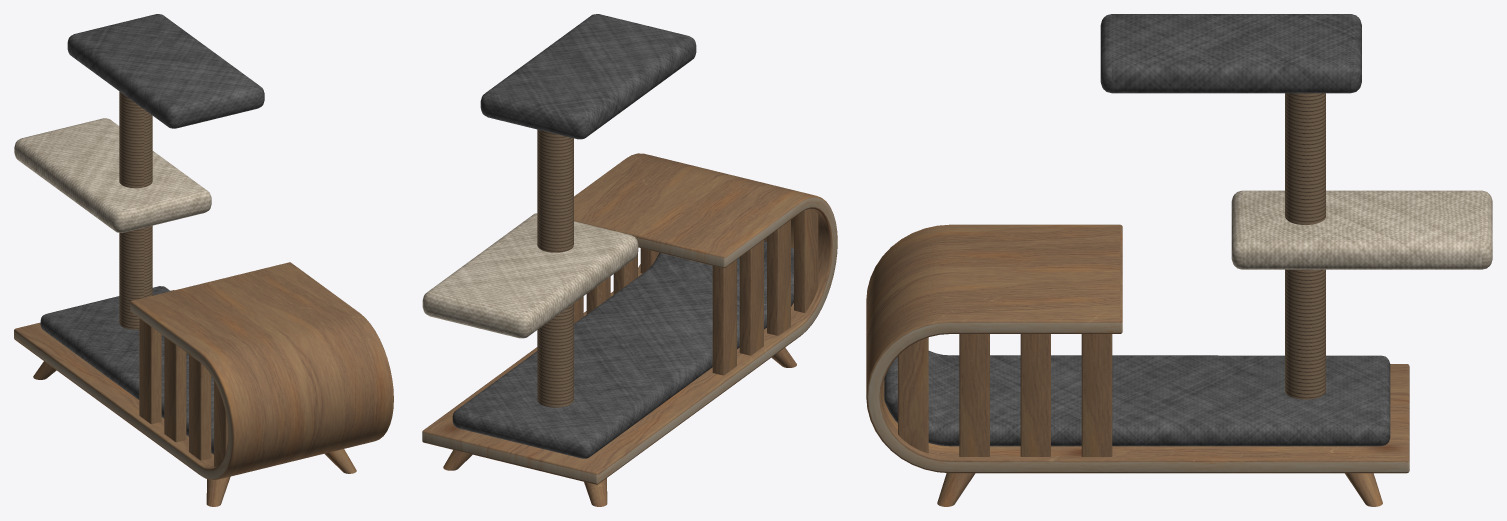
File: cat_bed.glb
3 views of the same model, side by side, from view 1: azimuth 30°, elevation 25°; view 2: azimuth 150°, elevation 25°; view 3: azimuth 270°, elevation 25° (orthographic). The views are drawn at different scales.
Visible parts, largest first — view 1: Cube.001, Cube.005, Cube.004, Cube.002, Cube.003, Cylinder, Cylinder.001; view 2: Cube.001, Cube.003, Cube.005, Cube.004, Cube.002, Cylinder, Cylinder.001; view 3: Cube.001, Cube.003, Cube.005, Cube.004, Cube.002, Cylinder, Cylinder.001.
Part boxes in pixels (<box>): Cube.001: <box>14,262,393,479</box>; Cube.005: <box>67,14,264,128</box>; Cube.004: <box>14,118,211,232</box>; Cube.002: <box>139,318,227,467</box>; Cube.003: <box>40,286,213,454</box>; Cylinder: <box>119,91,152,329</box>; Cylinder.001: <box>33,361,356,506</box>; Cube.001: <box>422,153,837,484</box>; Cube.003: <box>452,241,793,458</box>; Cube.005: <box>480,14,696,139</box>; Cube.004: <box>422,213,638,338</box>; Cube.002: <box>574,209,818,375</box>; Cylinder: <box>537,129,573,407</box>; Cylinder.001: <box>443,347,796,506</box>; Cube.001: <box>866,224,1409,473</box>; Cube.003: <box>884,351,1390,446</box>; Cube.005: <box>1100,14,1361,93</box>; Cube.004: <box>1231,190,1492,269</box>; Cube.002: <box>898,334,1112,456</box>; Cylinder: <box>1285,93,1325,399</box>; Cylinder.001: <box>937,473,1382,506</box>.
Bounding box in the file's own units: 0.4313 × 0.8767 × 1.18.
Materials: 2 (2 with a texture image).
